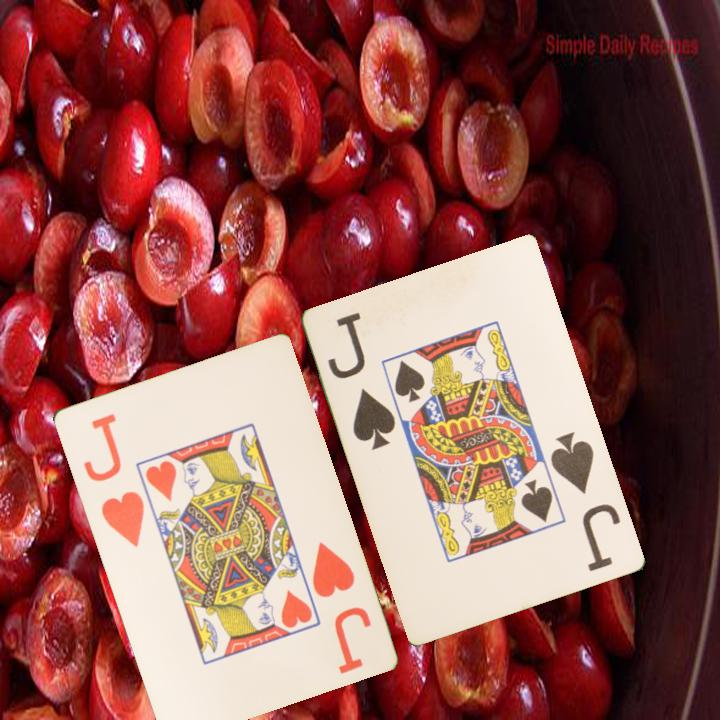Jh: (79, 409, 147, 550), (308, 538, 358, 600)
Js: (547, 429, 625, 575), (324, 308, 400, 453)
